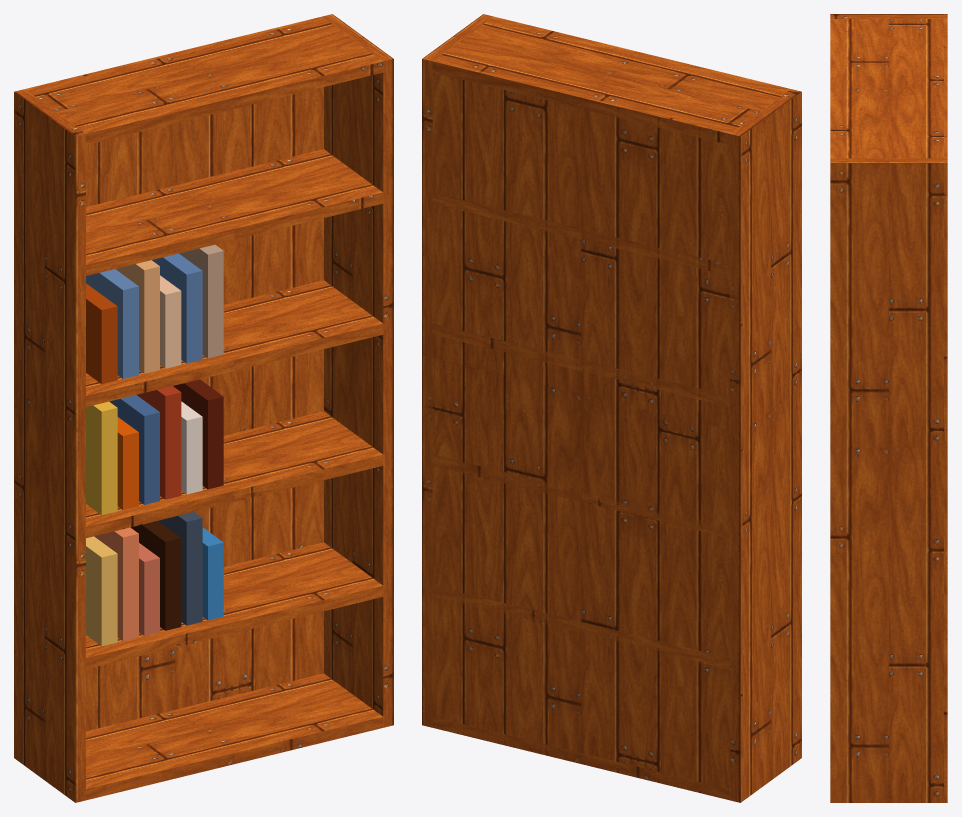
File: Bookshelf.fbx
The picture shows the model from 3 angles, left to right: view 1: azimuth 30°, elevation 25°; view 2: azimuth 150°, elevation 25°; view 3: azimuth 270°, elevation 25°; orthographic projection. The views are drawn at different scales.
Parts seen in each view (by area): view 1: Bookshelf; view 2: Bookshelf; view 3: Bookshelf.
Part boxes in pixels (x1=…): Bookshelf: x1=14, y1=14, x2=393, y2=802; Bookshelf: x1=422, y1=14, x2=801, y2=802; Bookshelf: x1=830, y1=14, x2=947, y2=802.
Size of the model in its own units: 0.9 by 1.8 by 0.3.
